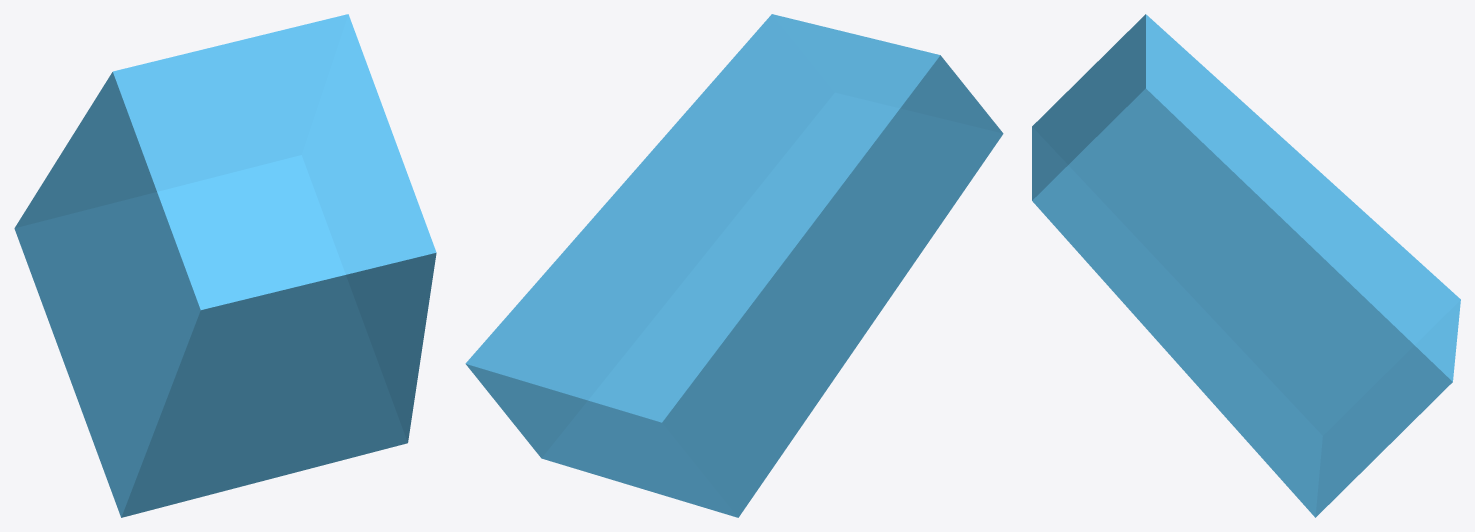
The model's file is Event_420107950_HBrechit_17.fbx.
The picture shows the model from 3 angles, left to right: view 1: azimuth 30°, elevation 25°; view 2: azimuth 150°, elevation 25°; view 3: azimuth 270°, elevation 25°; orthographic projection. The views are drawn at different scales.
Parts seen in each view (by area): view 1: Model; view 2: Model; view 3: Model.
Boxes of the visible parts, x1,y1,x2,y2 form: Model: [14, 14, 436, 517]; Model: [465, 14, 1003, 517]; Model: [1032, 14, 1460, 517].
Size of the model in its own units: 0.7588 by 0.9896 by 1.02.
